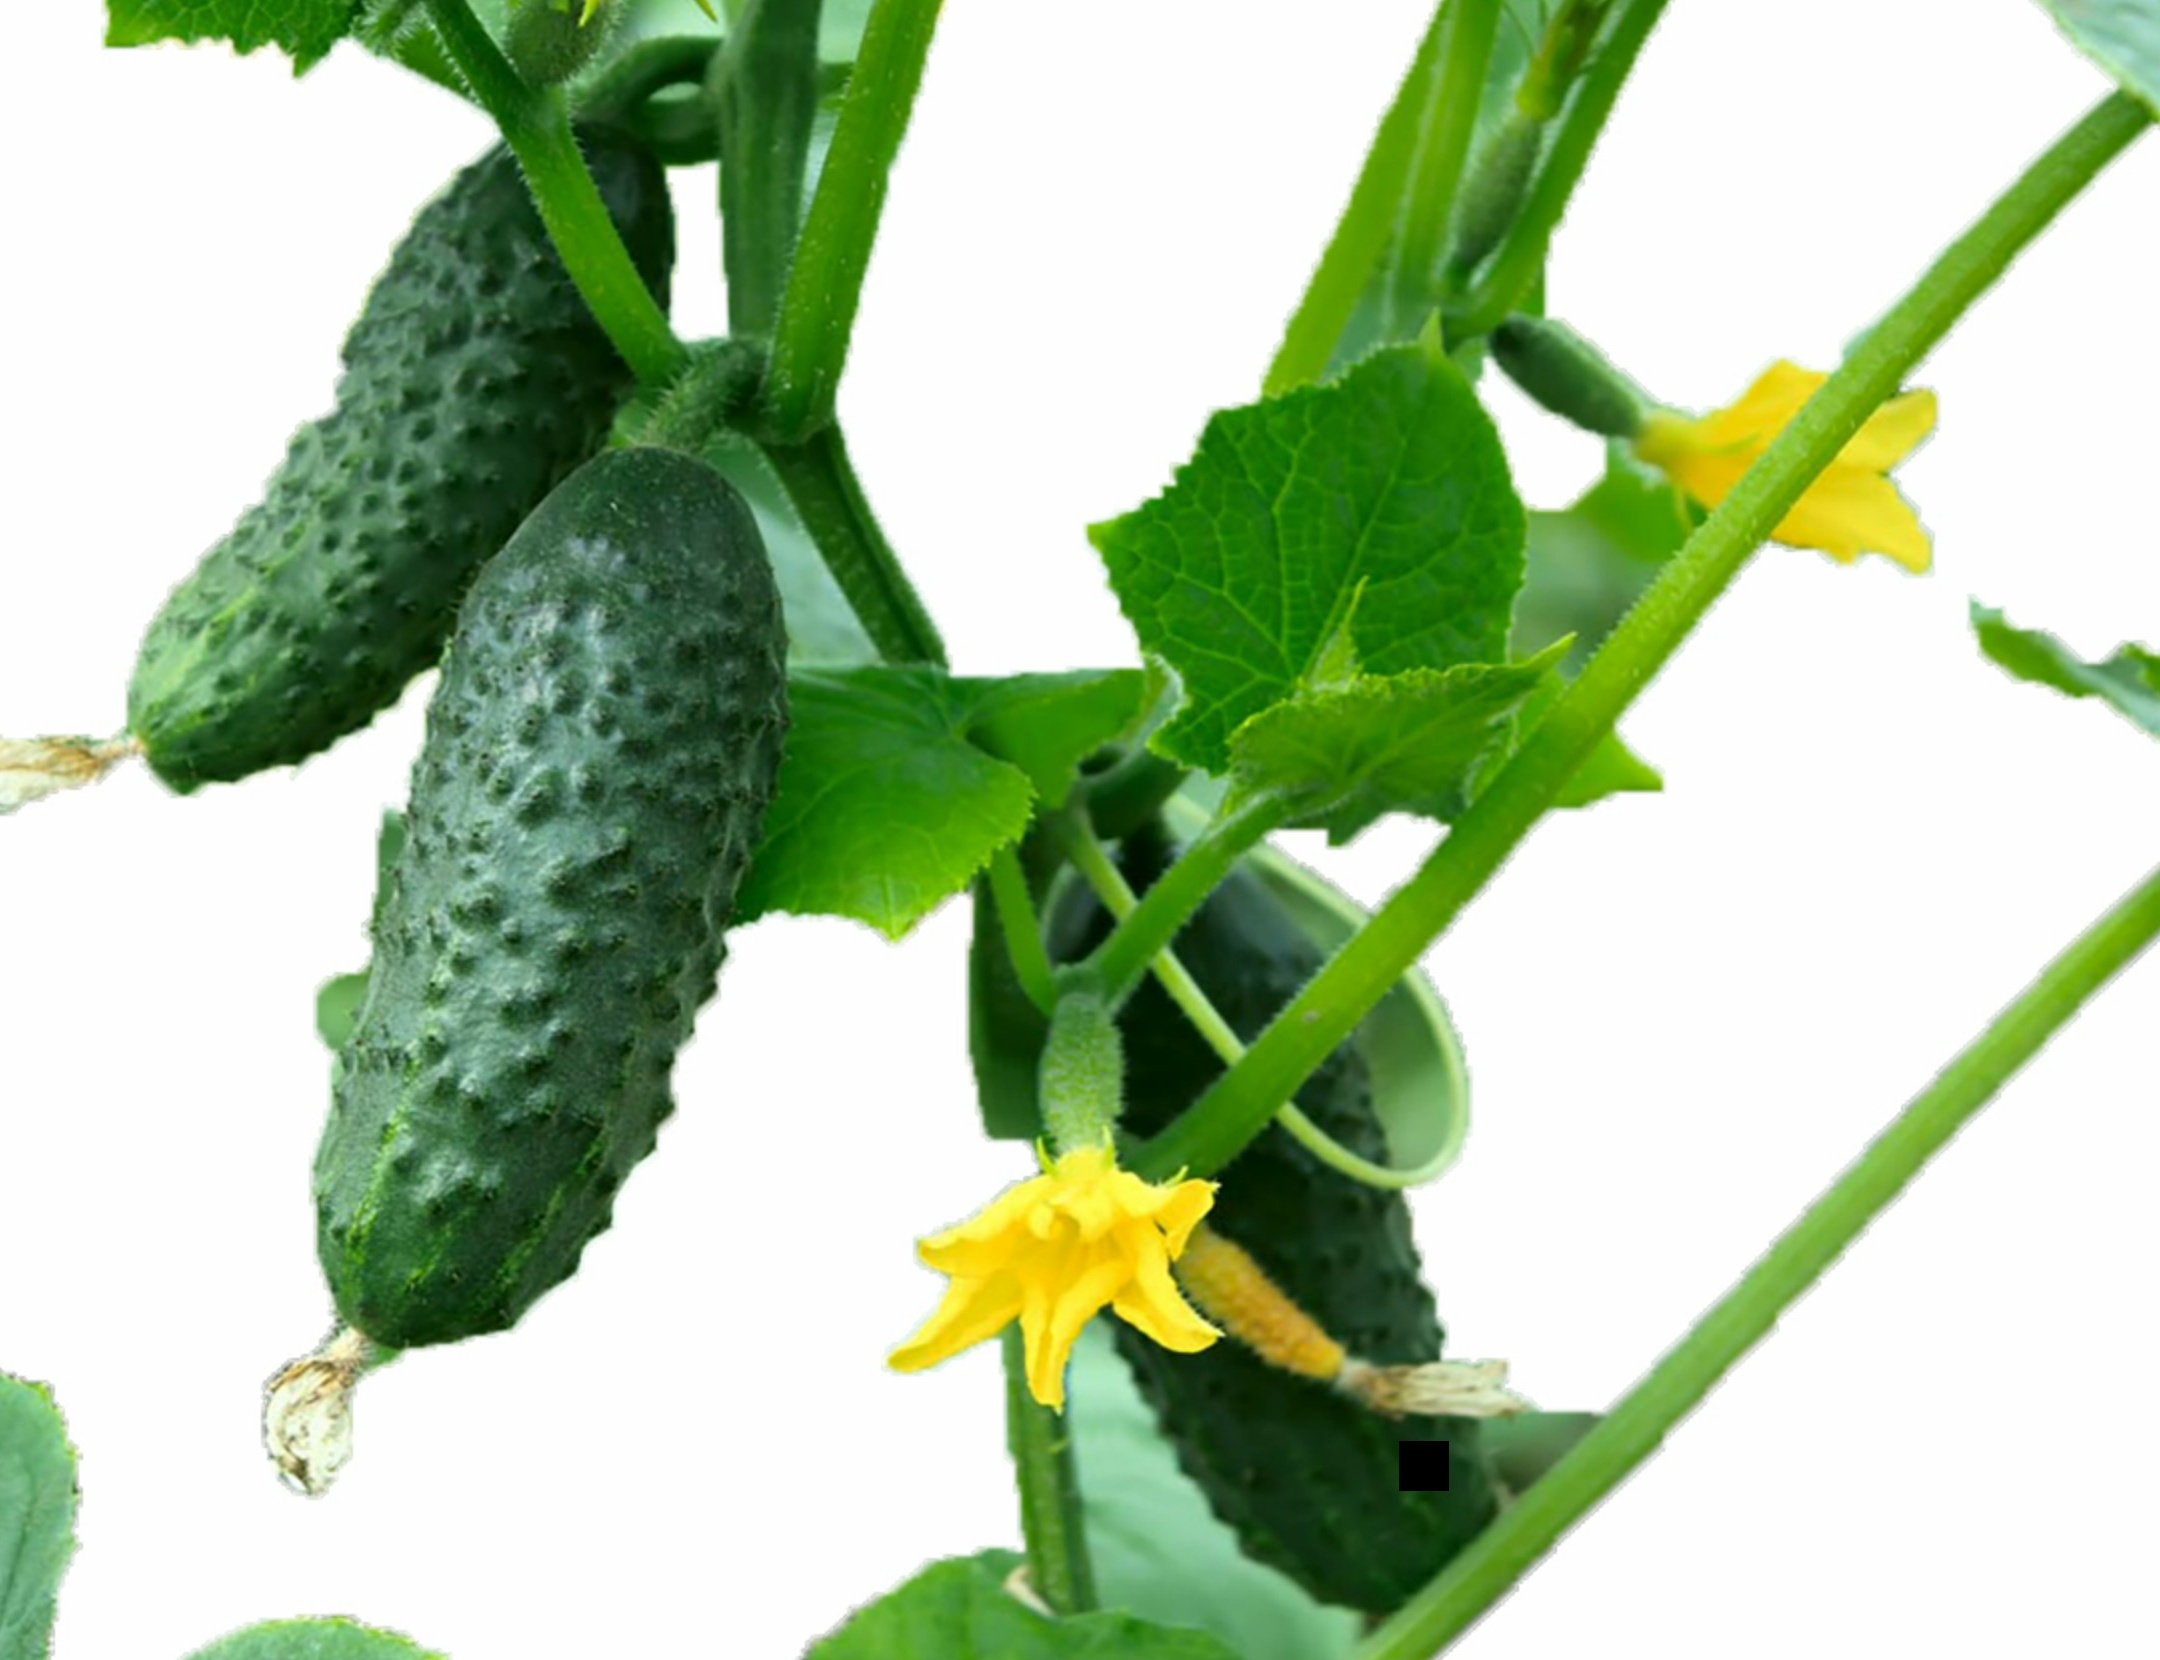cucumber: (66, 98, 723, 811), (309, 452, 779, 1364)
cucumber_plant: (846, 2, 1972, 1587)
